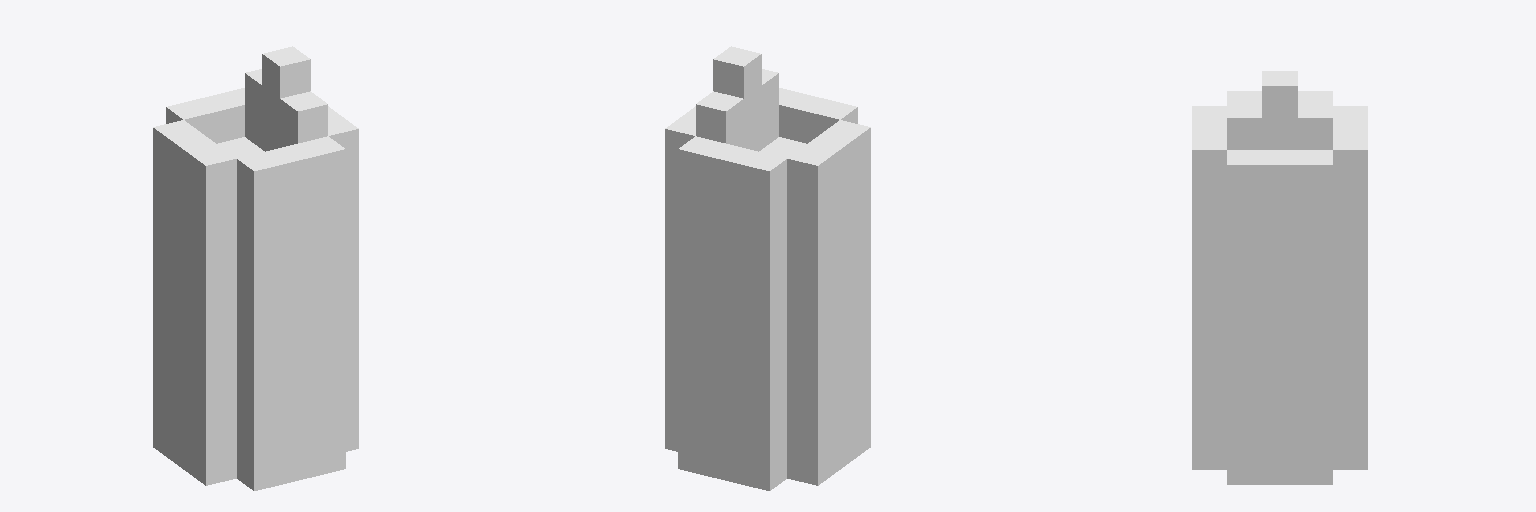
File: almond_water.obj
The picture shows the model from 3 angles: view 1: azimuth 30°, elevation 25°; view 2: azimuth 150°, elevation 25°; view 3: azimuth 270°, elevation 25°; orthographic projection.
Visible parts, largest first — view 1: object 1; view 2: object 1; view 3: object 1.
Part boxes in pixels (left/top/right/bottom): object 1: left=153, top=46, right=358, bottom=490; object 1: left=665, top=46, right=870, bottom=490; object 1: left=1192, top=71, right=1367, bottom=484.
Bounding box in the file's own units: 0.5 × 1.2 × 0.5.